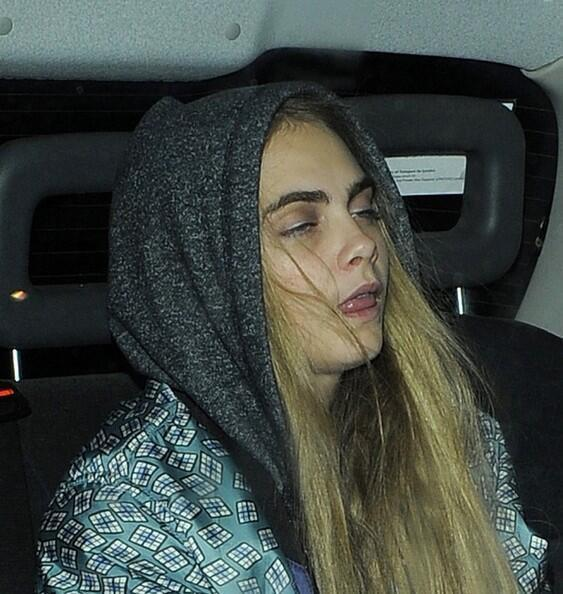Drunk: (250, 119, 393, 370)
